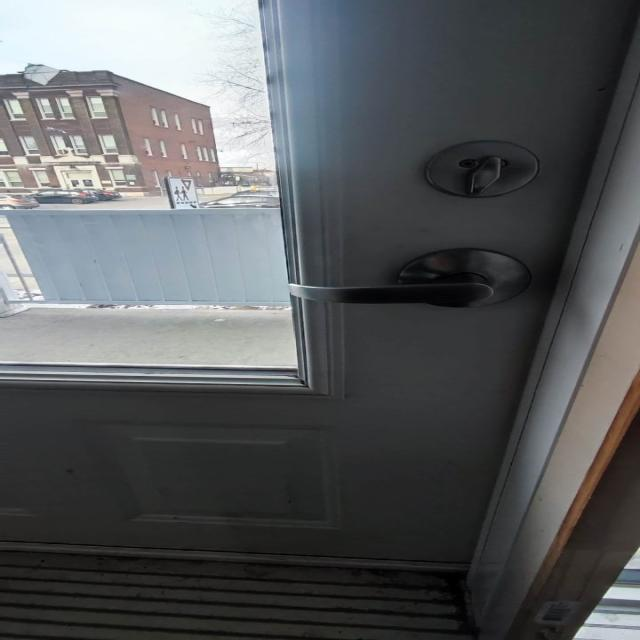door-handle: (289, 249, 531, 308)
